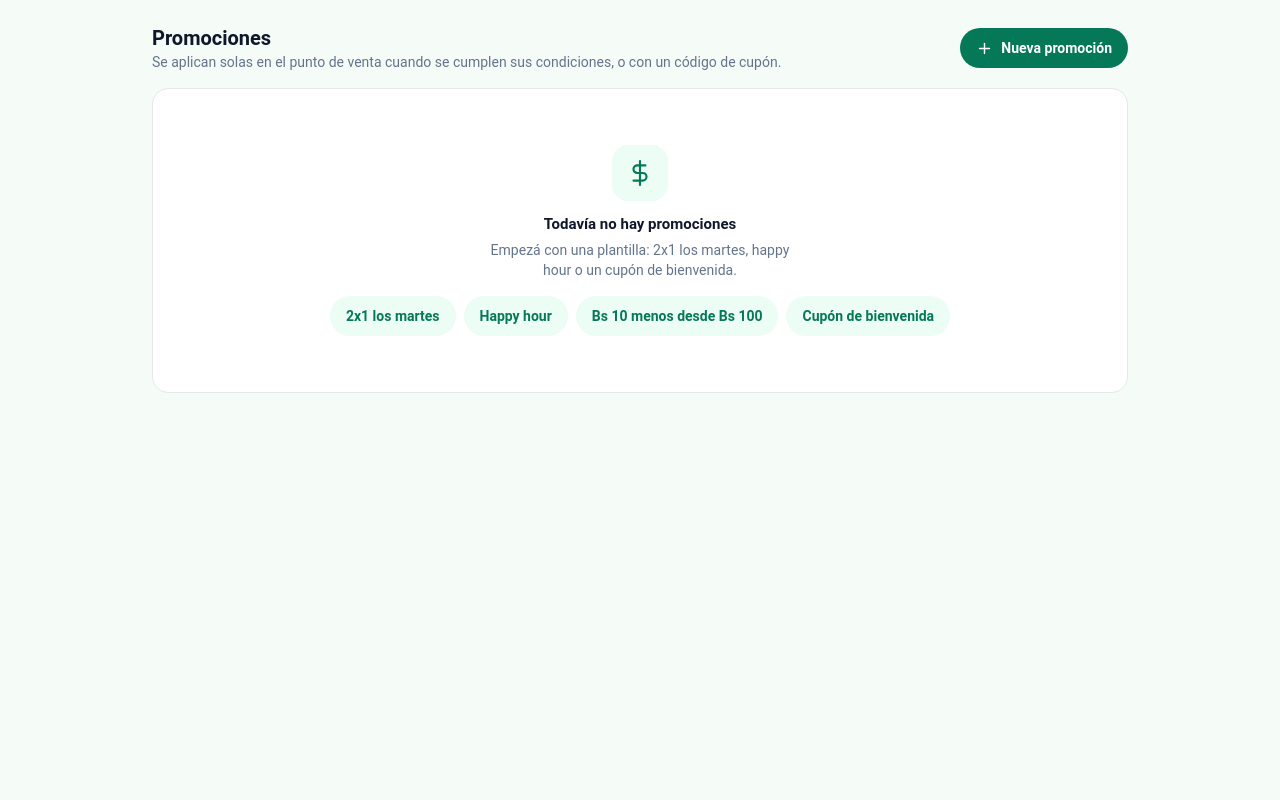
Test: Promociones › código del cupón en la misma promoción (§12, decisión 8) › con menos de 3 no consulta y no deja guardar; vacío sí (sólo lote)
The width and height of the screenshot is (1280, 800).
Click the button "Cupón de bienvenida" at (868, 316), box [786,296,950,336]
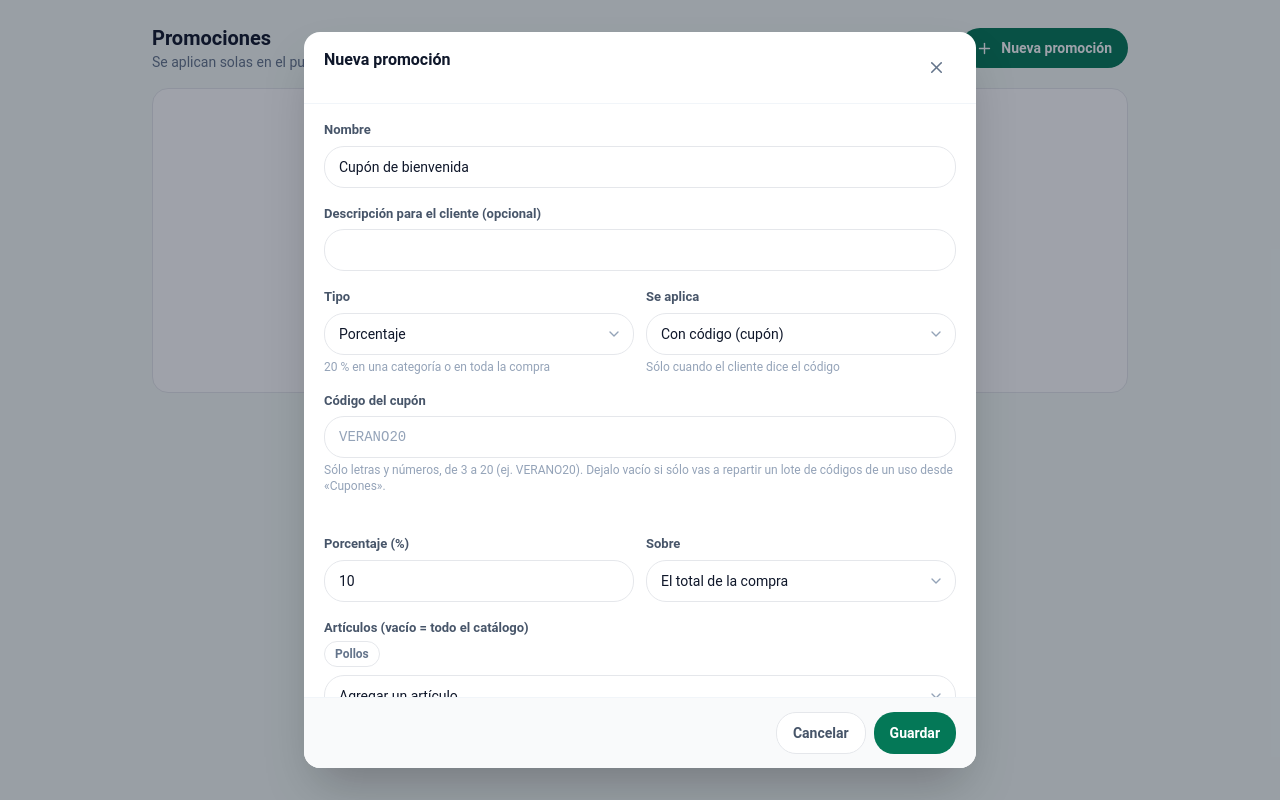
Type "ab" into the field labelled "Código del cupón" at (640, 437), box [324,416,956,458]
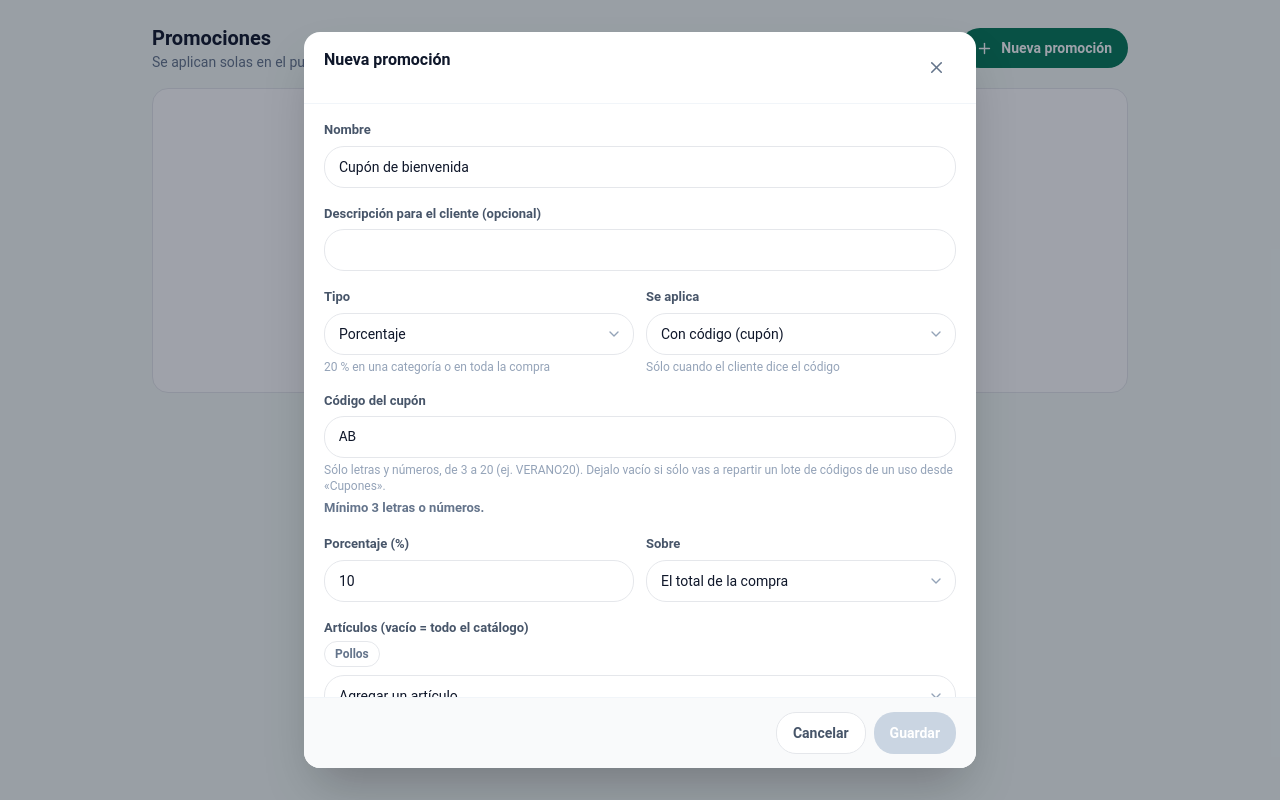
Expected: the text "Mínimo 3 letras o números." is shown, [324,500,484,515]
Expected: the button "Guardar" is disabled, [874,712,956,754]
Clear the field labelled "Código del cupón" at (640, 437), box [324,416,956,458]
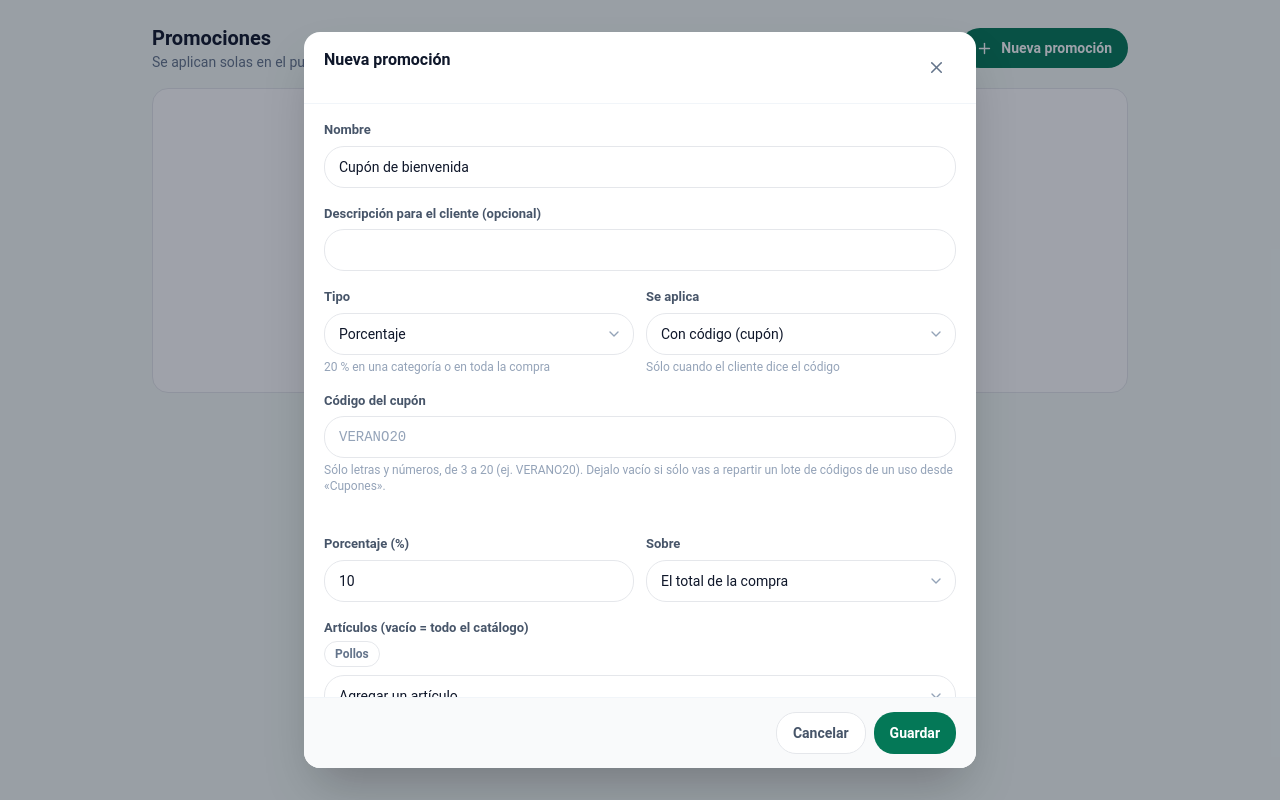
Expected: the button "Guardar" is enabled, [874,712,956,754]
